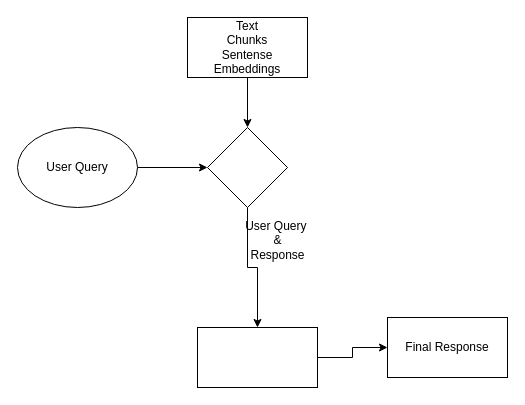
This 525x405 diagram has some shape labels left out. The shapes that lost their labels are listed below. From the top down, each one's centre as x and y in pixels, then its label:
the point at 247,167: Weaviate V DB
the point at 257,357: LLM
